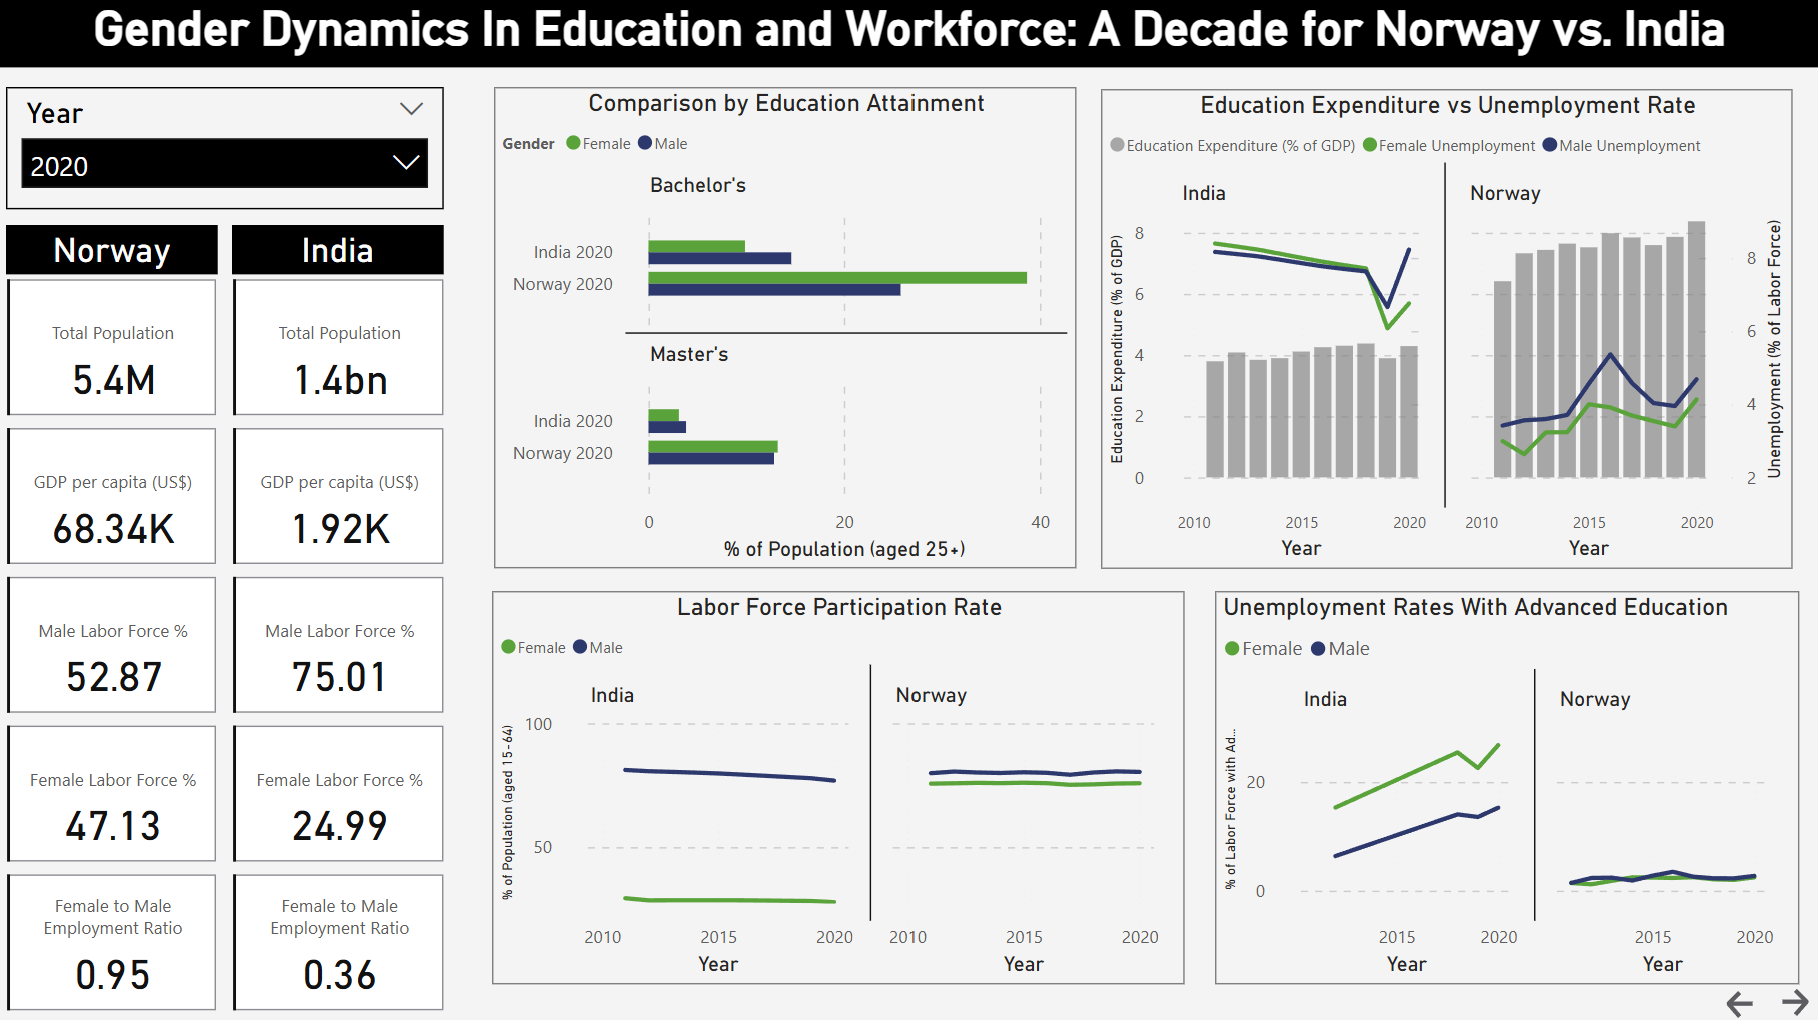

What the dashboard file says about the page in this screenshot:
{"tool":"powerbi","page":{"name":"Norway vs India","canvas":[1280,720],"ordinal":1},"visuals":[{"type":"textbox","box":[0,0,1280,52.2],"z":0},{"type":"slicer","fields":{"Values":["Year.Year"]},"box":[8.5,66,306,85.5],"z":1000},{"type":"lineChart","title":"Labor Force Participation Rate","fields":{"Category":["Year.Year.Variation.Date Hierarchy.Year","Country.Country Name"],"Y":["Sum(Gender Indicators.Labor force participation rate, female (% of female population ages 15-64) (modeled ILO estimate))","Sum(Gender Indicators.Labor force participation rate, male (% of male population ages 15-64) (modeled ILO estimate))"],"Rows":["Country.Country Name"]},"box":[348.3,418.3,483.3,275],"z":2000},{"type":"lineStackedColumnComboChart","title":"Education Expenditure vs Unemployment Rate","fields":{"Category":["Year.Year.Variation.Date Hierarchy.Year"],"Y":["Sum(Gender Indicators.Government expenditure on education, total (% of GDP))"],"Rows":["Country.Country Name"],"Y2":["Sum(Economic Indicators.Unemployment, female (% of female labor force) (modeled ILO estimate))","Sum(Economic Indicators.Unemployment, male (% of male labor force) (modeled ILO estimate))"]},"box":[773.3,66.7,483.3,335.6],"z":3000},{"type":"clusteredBarChart","title":"Comparison by Education Attainment","fields":{"Category":["Country.Country Name","Year.Year.Variation.Date Hierarchy.Year"],"Series":["Education Attainment.Gender"],"Y":["Sum(Education Attainment.Value)"],"Rows":["Education Attainment.Series Name (groups)"]},"box":[348.9,65.6,406.7,336.7],"z":4000},{"type":"cardVisual","fields":{"Data":["Sum(Economic Indicators.Population, total)","Sum(Economic Indicators.GDP per capita (Current US$))","Gender Indicators.Male Labor Force %","Gender Indicators.Female Labor Force %","Employment Indicators.Female Employment Ratio"]},"box":[4.7,197.3,156.7,520],"z":4000,"group":"g1"},{"type":"lineChart","title":"Unemployment Rates With Advanced Education","fields":{"Y":["Sum(Gender Indicators.Unemployment with advanced education, female (% of female labor force with advanced education))","Sum(Gender Indicators.Unemployment with advanced education, male (% of male labor force with advanced education))"],"Category":["Year.Year.Variation.Date Hierarchy.Year"],"Rows":["Country.Country Name"]},"box":[853.3,418.3,408.3,275],"z":5000},{"type":"group","id":"g1","title":"Group 2","box":[4.7,162.6,156.7,554.7],"z":6000},{"type":"group","id":"g2","title":"Group 1","box":[162,162.5,157,555],"z":7000},{"type":"shape","box":[166.5,162.5,148,34.5],"z":8000,"group":"g2"},{"type":"actionButton","box":[1244.7,692.7,35.3,27.3],"z":8000},{"type":"shape","box":[8.7,162.6,148,34.7],"z":9000,"group":"g1"},{"type":"actionButton","box":[1207.2,693.1,39.4,27.3],"z":9000},{"type":"cardVisual","fields":{"Data":["Sum(Economic Indicators.Population, total)","Sum(Economic Indicators.GDP per capita (Current US$))","Gender Indicators.Male Labor Force %","Gender Indicators.Female Labor Force %","Employment Indicators.Female Employment Ratio"]},"box":[162,197.5,157,520],"z":10001,"group":"g2"}]}

Visuals, with their boxes in screenshot pixels (x1, y1, x2, y2), scaled from the page's 1280x720 canvas onto the 1818x1020 screenshot:
textbox: x1=0 y1=0 x2=1817 y2=74
slicer - Year.Year: x1=12 y1=94 x2=447 y2=215
"Labor Force Participation Rate" lineChart: x1=495 y1=593 x2=1181 y2=982
"Education Expenditure vs Unemployment Rate" lineStackedColumnComboChart: x1=1098 y1=94 x2=1785 y2=570
"Comparison by Education Attainment" clusteredBarChart: x1=496 y1=93 x2=1073 y2=570
cardVisual - Sum(Economic Indicators.Population, total) x Sum(Economic Indicators.GDP per capita (Current US$)): x1=7 y1=280 x2=229 y2=1016
"Unemployment Rates With Advanced Education" lineChart: x1=1212 y1=593 x2=1792 y2=982
"Group 2" group: x1=7 y1=230 x2=229 y2=1016
"Group 1" group: x1=230 y1=230 x2=453 y2=1016
shape: x1=236 y1=230 x2=447 y2=279
actionButton: x1=1768 y1=981 x2=1817 y2=1019
shape: x1=12 y1=230 x2=223 y2=280
actionButton: x1=1715 y1=982 x2=1771 y2=1019
cardVisual - Sum(Economic Indicators.Population, total) x Sum(Economic Indicators.GDP per capita (Current US$)): x1=230 y1=280 x2=453 y2=1016
